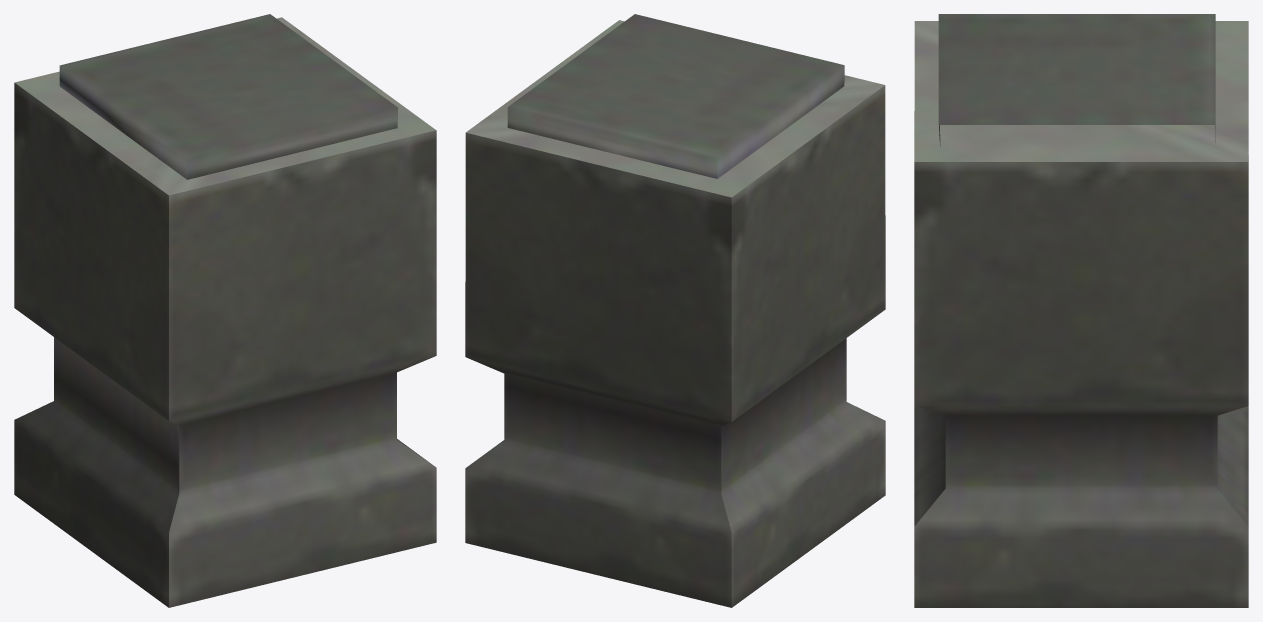
Rendered from City_bujian_32.fbx.
The picture shows the model from 3 angles, left to right: view 1: azimuth 30°, elevation 25°; view 2: azimuth 150°, elevation 25°; view 3: azimuth 270°, elevation 25°; orthographic projection. The views are drawn at different scales.
Visible parts, largest first — view 1: City_1_2017_3_7_2:City_1_2017_3_7_2:City_1_2017_3_7_2:polySu; view 2: City_1_2017_3_7_2:City_1_2017_3_7_2:City_1_2017_3_7_2:polySu; view 3: City_1_2017_3_7_2:City_1_2017_3_7_2:City_1_2017_3_7_2:polySu.
Part boxes in pixels (<box>): City_1_2017_3_7_2:City_1_2017_3_7_2:City_1_2017_3_7_2:polySu: <box>14,14,436,607</box>; City_1_2017_3_7_2:City_1_2017_3_7_2:City_1_2017_3_7_2:polySu: <box>465,14,885,607</box>; City_1_2017_3_7_2:City_1_2017_3_7_2:City_1_2017_3_7_2:polySu: <box>914,14,1248,607</box>.
Size of the model in its own units: 1.14 by 1.76 by 1.14.
